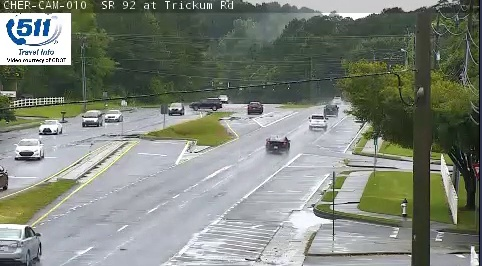car: (266, 136, 290, 153), (309, 113, 327, 129)
